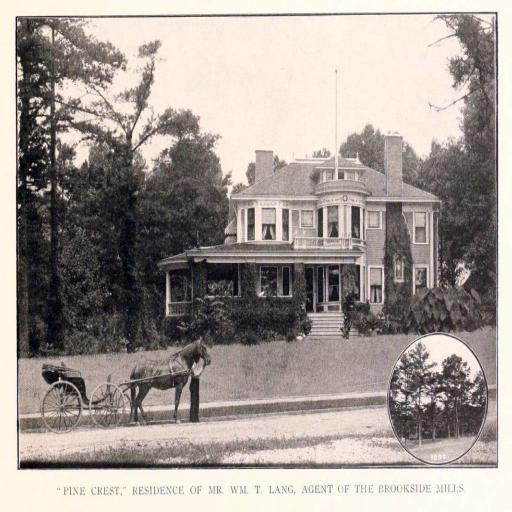Horse: (129, 338, 209, 424)
